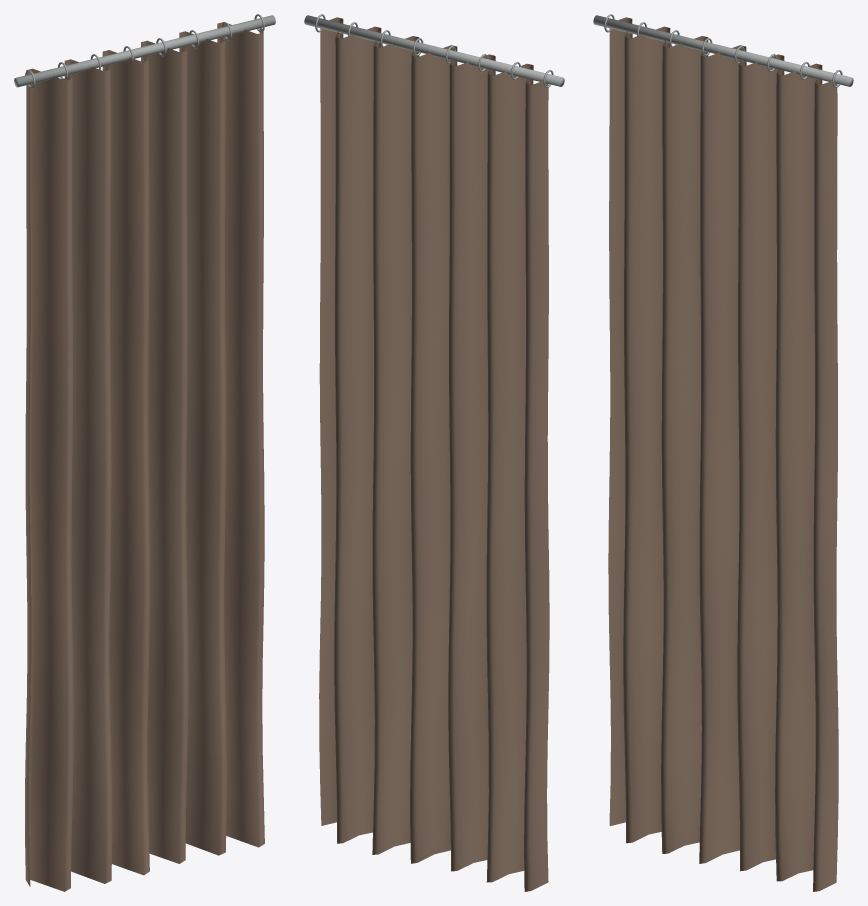
Rendered from modern.curtain.gltf.
The picture shows the model from 3 angles, left to right: view 1: azimuth 30°, elevation 25°; view 2: azimuth 150°, elevation 25°; view 3: azimuth 330°, elevation 25°; orthographic projection.
Visible parts, largest first — view 1: modern.curtain.linen-falls; view 2: modern.curtain.linen-falls; view 3: modern.curtain.linen-falls.
Boxes of the visible parts, x1=… form: modern.curtain.linen-falls: x1=14, y1=14, x2=275, y2=891; modern.curtain.linen-falls: x1=304, y1=14, x2=564, y2=891; modern.curtain.linen-falls: x1=593, y1=14, x2=853, y2=891.
Size of the model in its own units: 0.728 by 2.22 by 0.1169.
2 materials, 1 textured.
